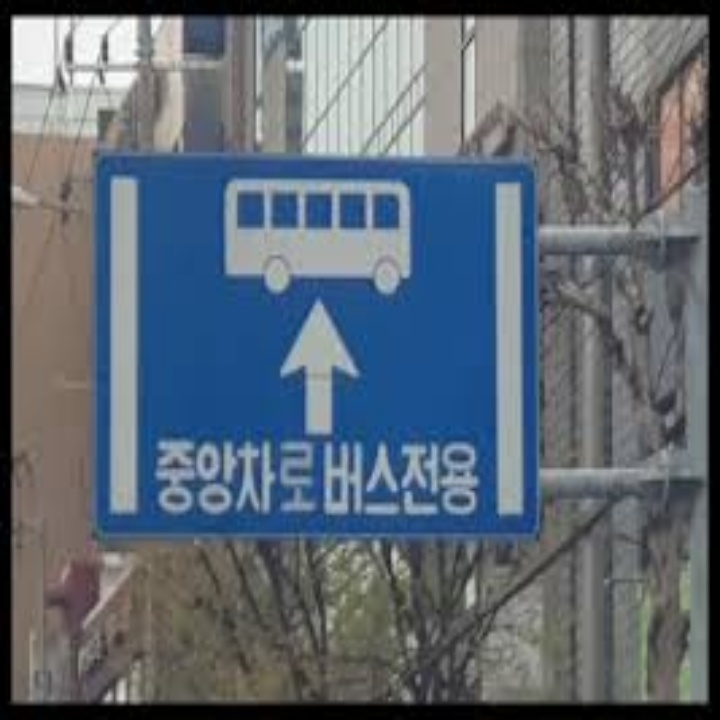bus: (215, 166, 432, 303)
